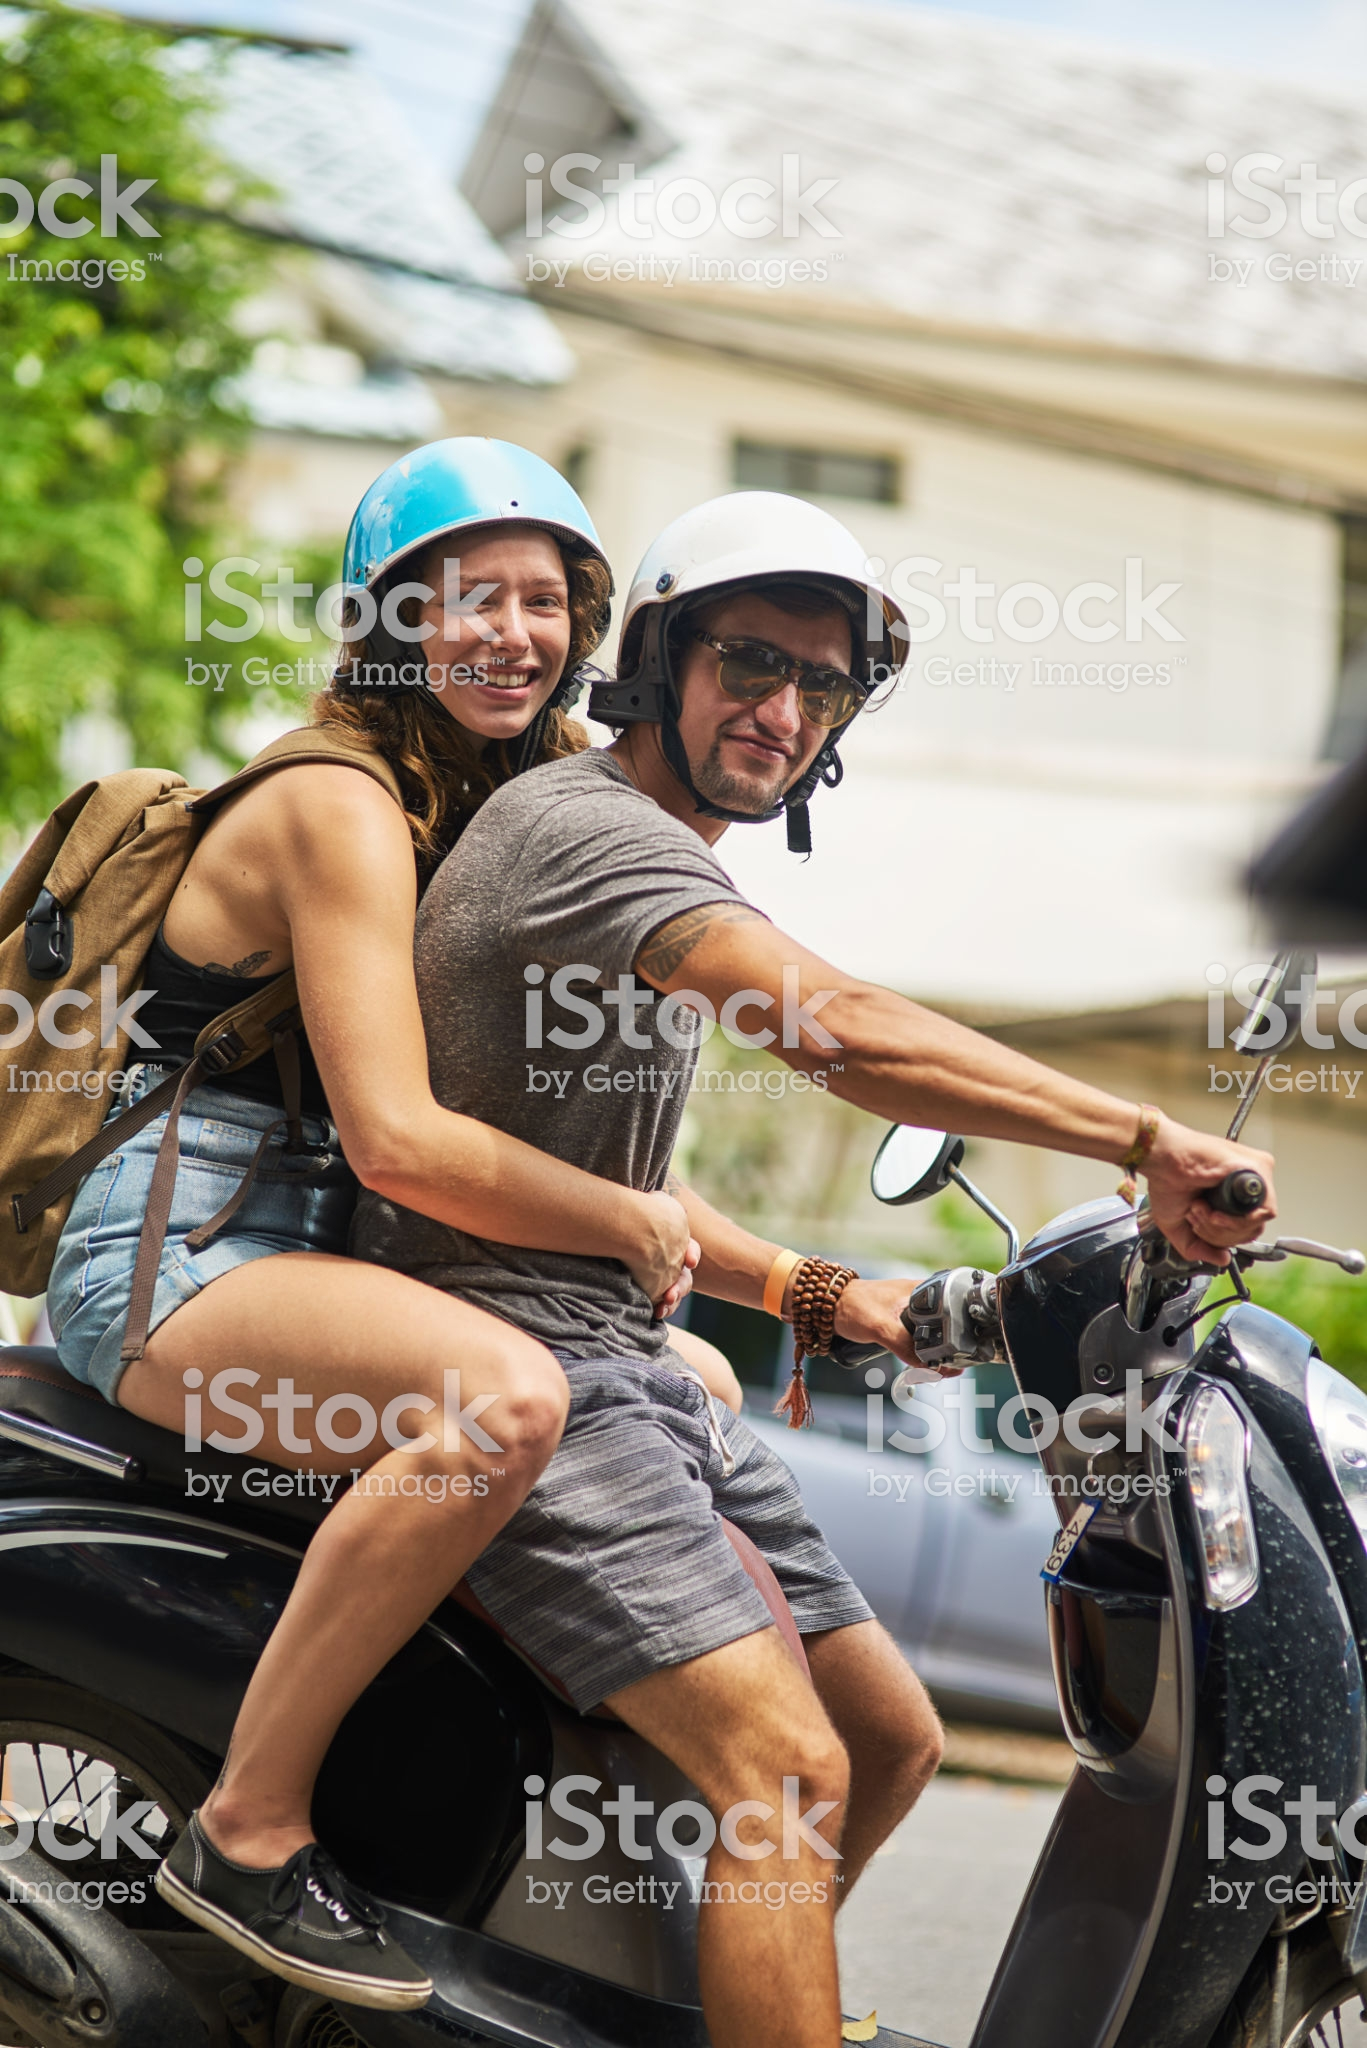helmet: (613, 491, 958, 676), (323, 416, 606, 602)
